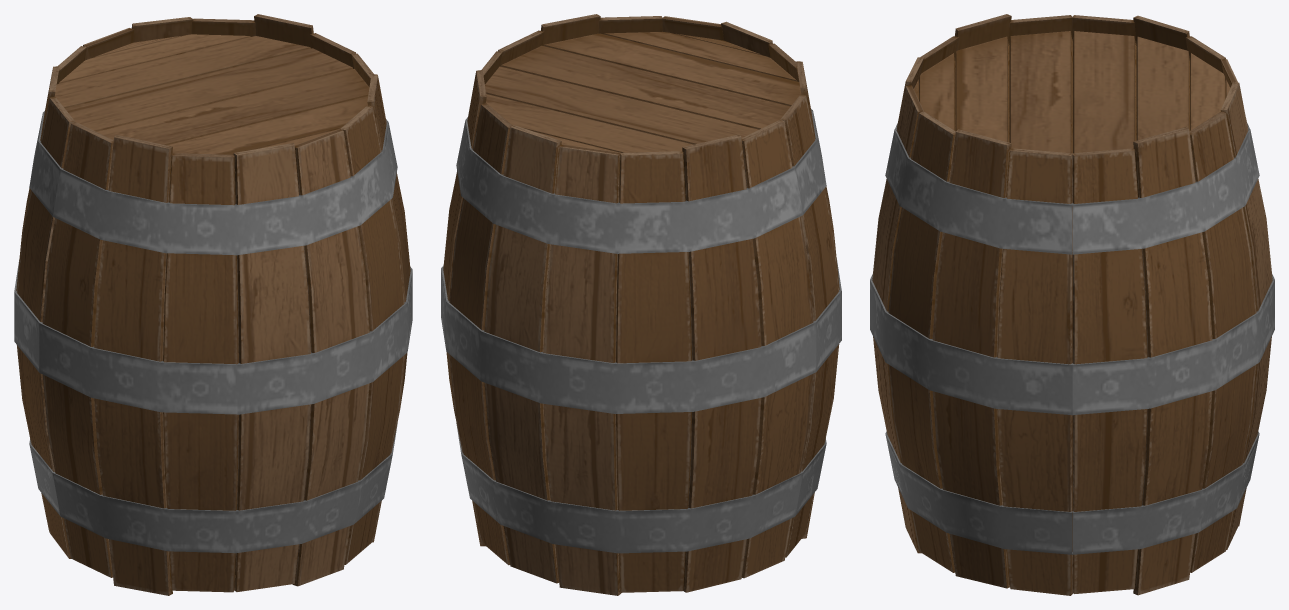
File: medeival_wood_barrel_free_to_use.glb
3 views of the same model, side by side, from view 1: azimuth 30°, elevation 25°; view 2: azimuth 150°, elevation 25°; view 3: azimuth 270°, elevation 25° (orthographic).
Visible parts, largest first — view 1: Barrel_main; view 2: Barrel_main; view 3: Barrel_main.
Boxes of the visible parts, x1=… form: Barrel_main: x1=14, y1=14, x2=412, y2=595; Barrel_main: x1=441, y1=14, x2=841, y2=595; Barrel_main: x1=870, y1=14, x2=1274, y2=595.
Bounding box in the file's own units: 2.68 × 3.3 × 2.68.
Materials: 1 (1 with a texture image).
